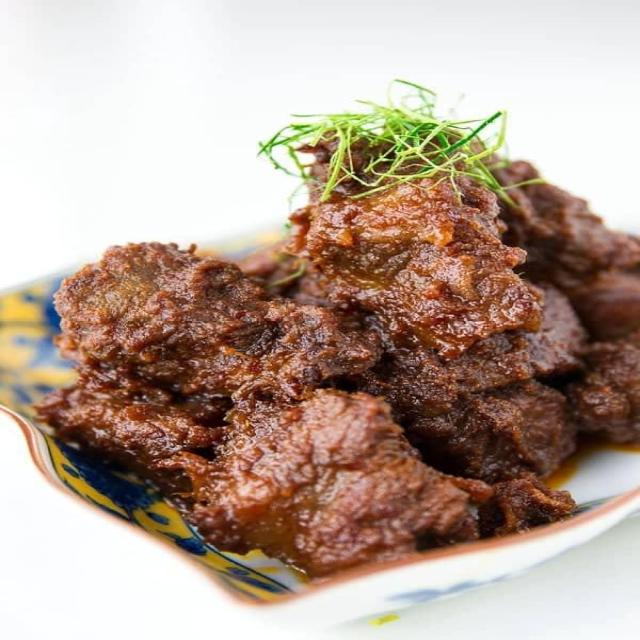Rendang: (3, 137, 640, 594)
